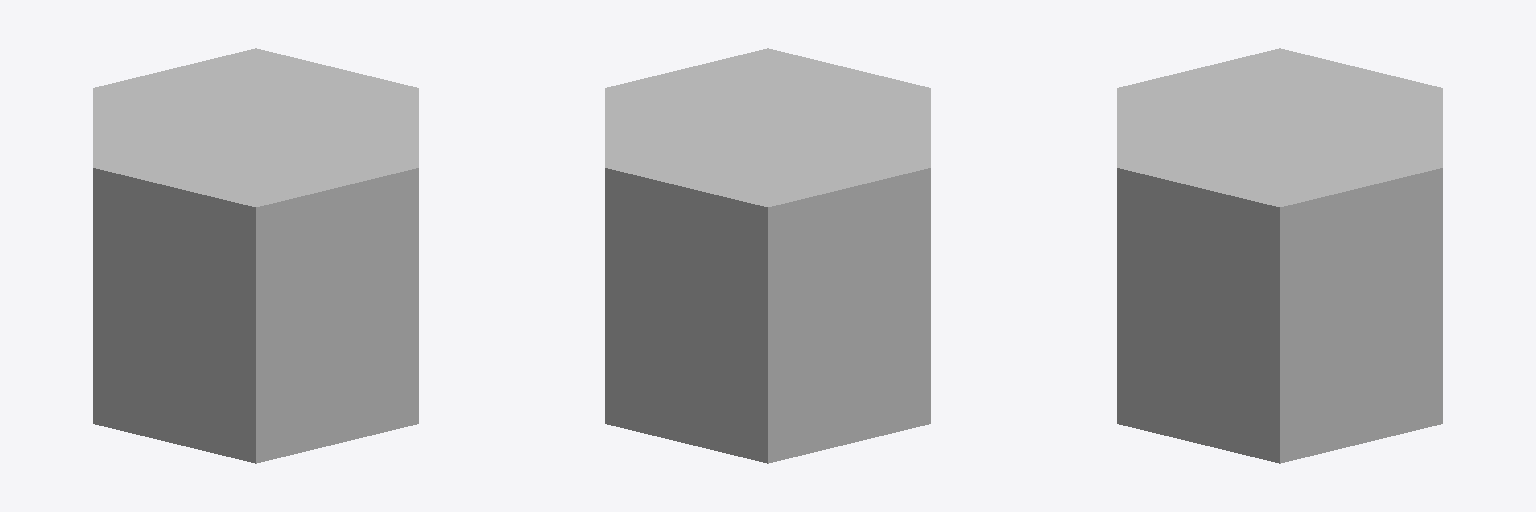
The model's file is city_cancha_edificio16.obj.
3 views of the same model, side by side, from view 1: azimuth 30°, elevation 25°; view 2: azimuth 150°, elevation 25°; view 3: azimuth 270°, elevation 25° (orthographic).
Visible parts, largest first — view 1: pCylinder11.003; view 2: pCylinder11.003; view 3: pCylinder11.003.
Part boxes in pixels (left/top/right/bottom): pCylinder11.003: left=93, top=48, right=418, bottom=463; pCylinder11.003: left=605, top=48, right=930, bottom=463; pCylinder11.003: left=1117, top=48, right=1442, bottom=463.
Bounding box in the file's own units: 0.9939 × 0.7454 × 0.8607.